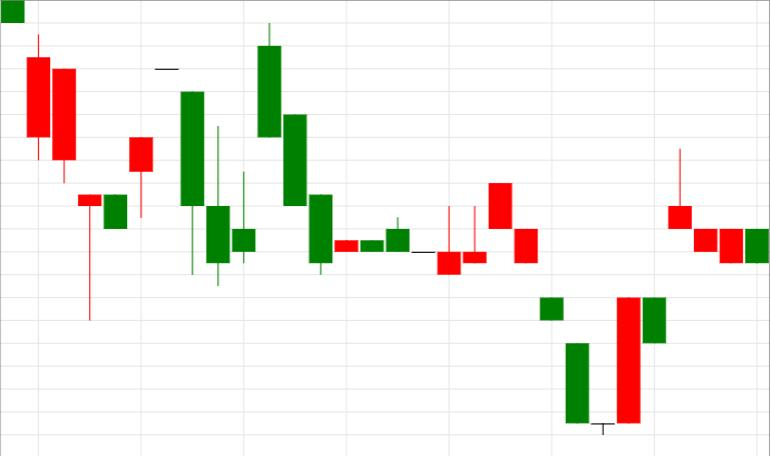morning_star_rise: (489, 183, 641, 434)
